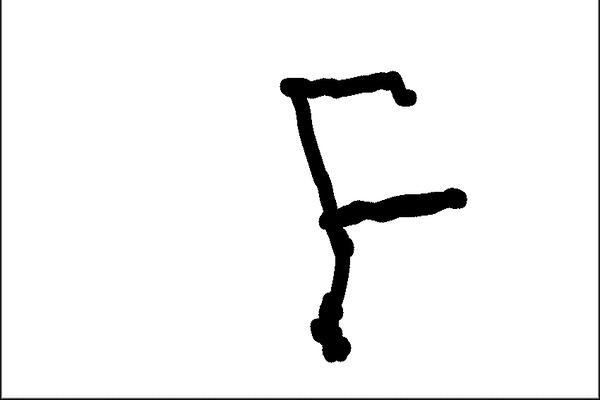F: (274, 68, 471, 366)
